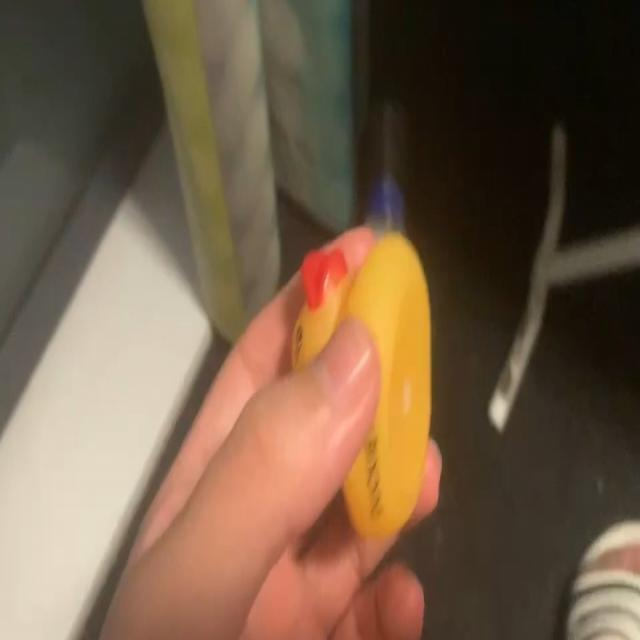rubber-duck: (292, 230, 429, 535)
